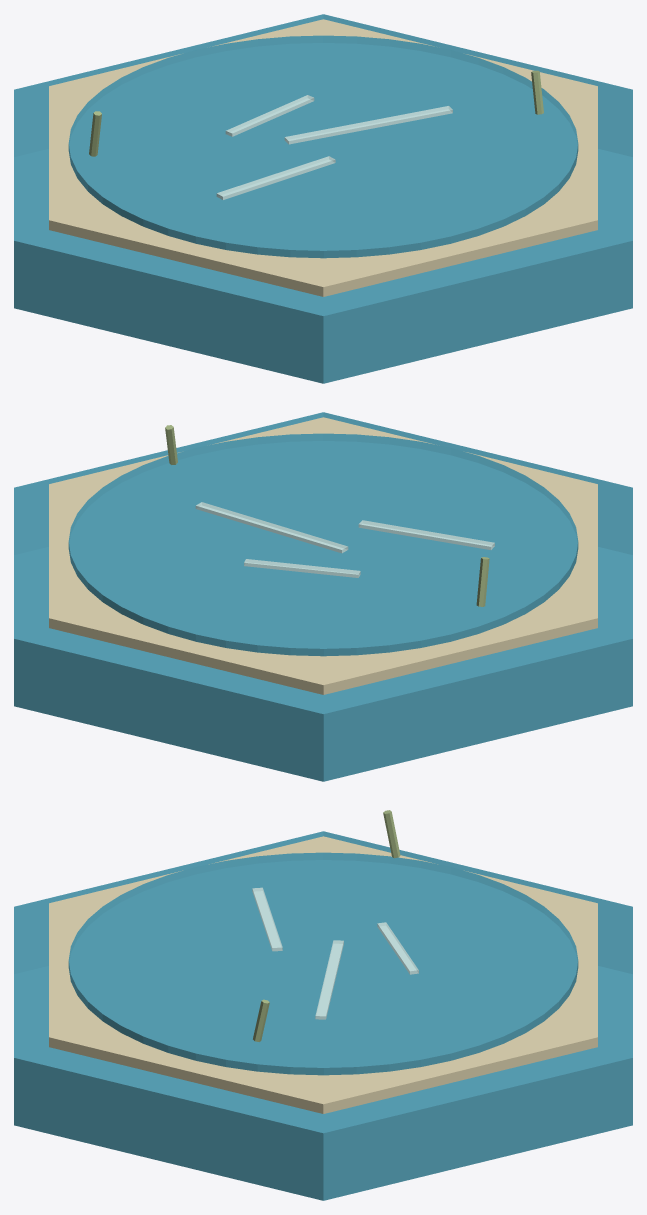
The model's file is terrain-water-lod0.glb.
The picture shows the model from 3 angles, top to bottom: view 1: azimuth 30°, elevation 25°; view 2: azimuth 150°, elevation 25°; view 3: azimuth 270°, elevation 25°; orthographic projection.
Parts seen in each view (by area): view 1: water_surface, hex_basin_side, shallow_sand_ring, wave_decal_2, wave_decal_1, wave_decal_3; view 2: water_surface, hex_basin_side, shallow_sand_ring, wave_decal_2, wave_decal_1, wave_decal_3; view 3: water_surface, hex_basin_side, shallow_sand_ring, wave_decal_2, wave_decal_1, wave_decal_3.
Part boxes in pixels (left/top/right/bottom): water_surface: left=68, top=35, right=578, bottom=258; hex_basin_side: left=14, top=14, right=632, bottom=383; shallow_sand_ring: left=49, top=19, right=597, bottom=296; wave_decal_2: left=284, top=106, right=452, bottom=144; wave_decal_1: left=216, top=156, right=335, bottom=199; wave_decal_3: left=225, top=95, right=314, bottom=136; water_surface: left=68, top=433, right=578, bottom=656; hex_basin_side: left=14, top=412, right=632, bottom=781; shallow_sand_ring: left=49, top=417, right=597, bottom=694; wave_decal_2: left=195, top=502, right=348, bottom=553; wave_decal_1: left=358, top=520, right=494, bottom=549; wave_decal_3: left=244, top=559, right=360, bottom=577; water_surface: left=68, top=852, right=578, bottom=1075; hex_basin_side: left=14, top=831, right=632, bottom=1200; shallow_sand_ring: left=49, top=836, right=597, bottom=1113; wave_decal_2: left=315, top=940, right=343, bottom=1019; wave_decal_1: left=252, top=887, right=282, bottom=951; wave_decal_3: left=377, top=922, right=418, bottom=974.
Bounding box in the file's own units: 2.3 × 0.5112 × 1.99.
